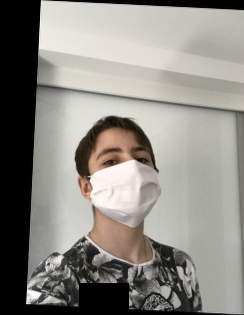with_mask: (87, 140, 161, 231)
